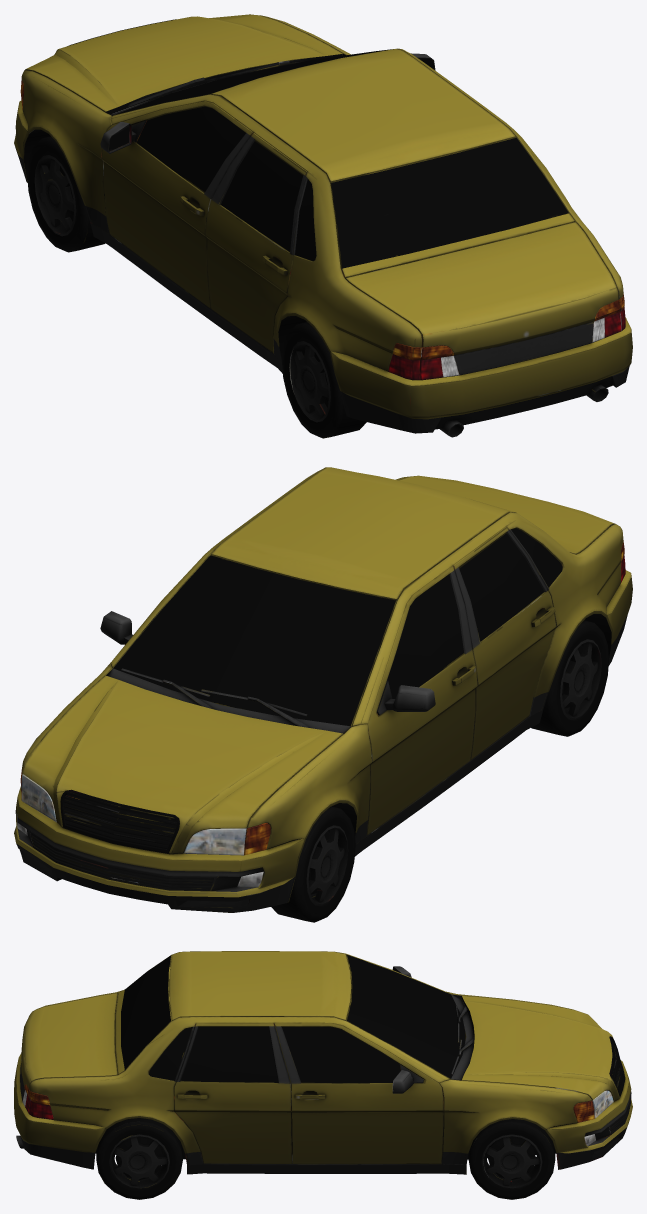
The model's file is car5.obj.
The picture shows the model from 3 angles, top to bottom: view 1: azimuth 30°, elevation 25°; view 2: azimuth 150°, elevation 25°; view 3: azimuth 270°, elevation 25°; orthographic projection. The views are drawn at different scales.
Parts seen in each view (by area): view 1: bake; view 2: bake; view 3: bake.
Boxes of the visible parts, x1,y1,x2,y2 form: bake: (14, 14, 632, 438); bake: (14, 467, 632, 922); bake: (14, 951, 632, 1199).
Bounding box in the file's own units: 1.94 × 1.34 × 4.36.
Materials: 1 (1 with a texture image).
